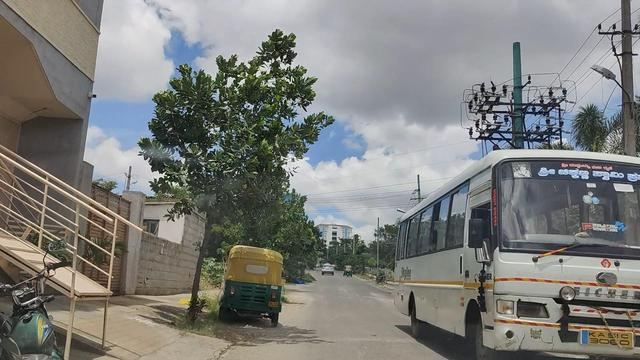HMV: (396, 141, 640, 360)
